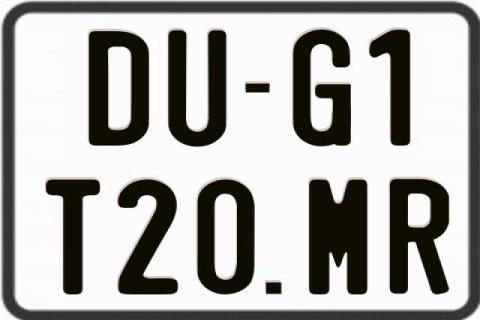0: (196, 177, 260, 297), (118, 178, 180, 294), (368, 30, 409, 148)
D: (86, 29, 150, 145)
G: (291, 28, 350, 146)
M: (308, 178, 371, 294)
R: (387, 178, 449, 298)
T: (44, 178, 98, 296)
U: (165, 28, 228, 145)
